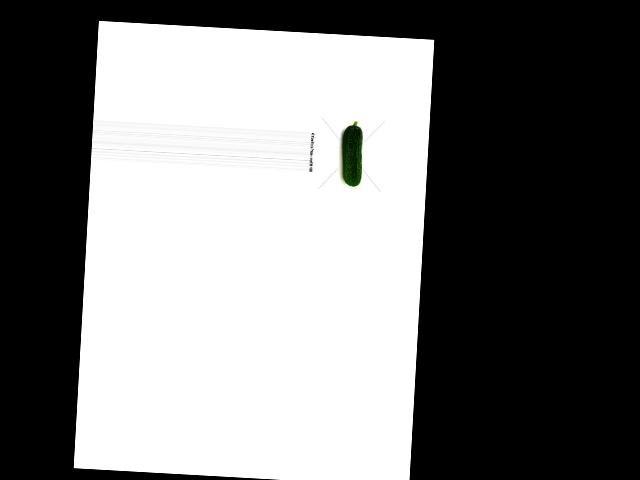cucumber: (340, 120, 364, 187)
